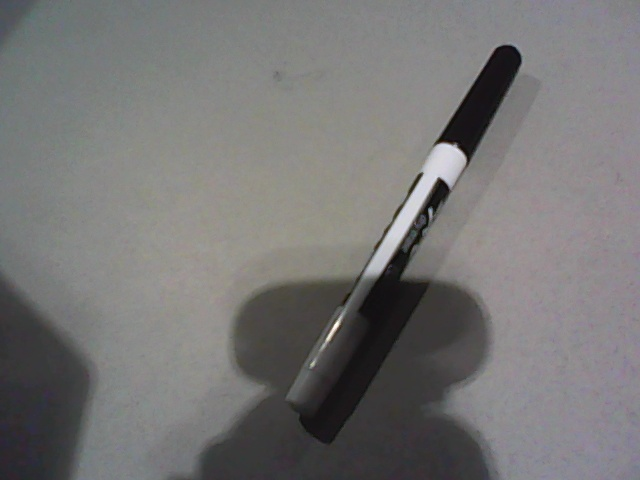marker: (284, 45, 522, 420)
